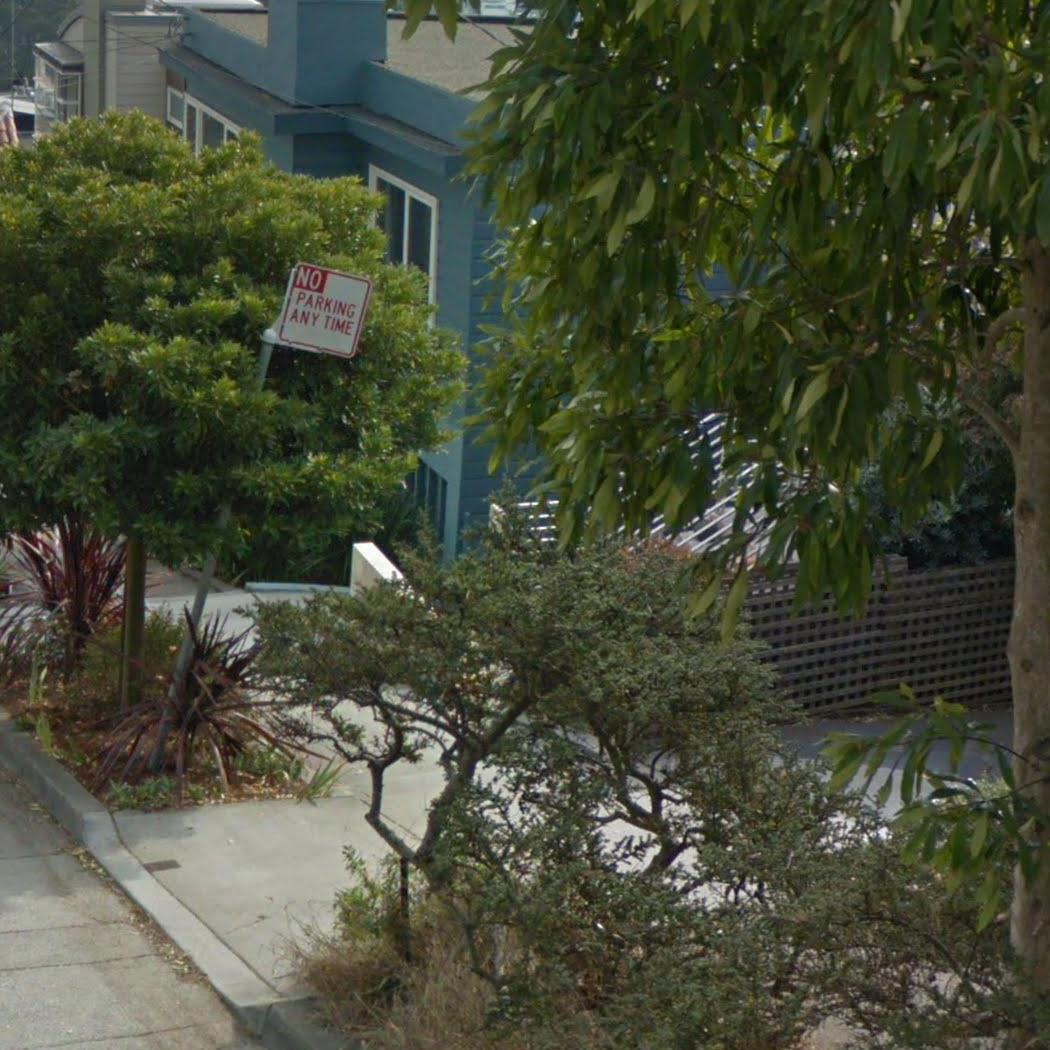No Parking Anytime: (272, 259, 377, 363)
